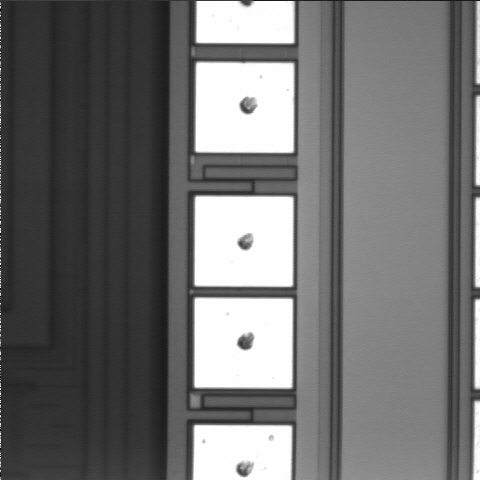pad: (196, 62, 294, 153), (195, 196, 293, 287), (194, 298, 293, 388)
